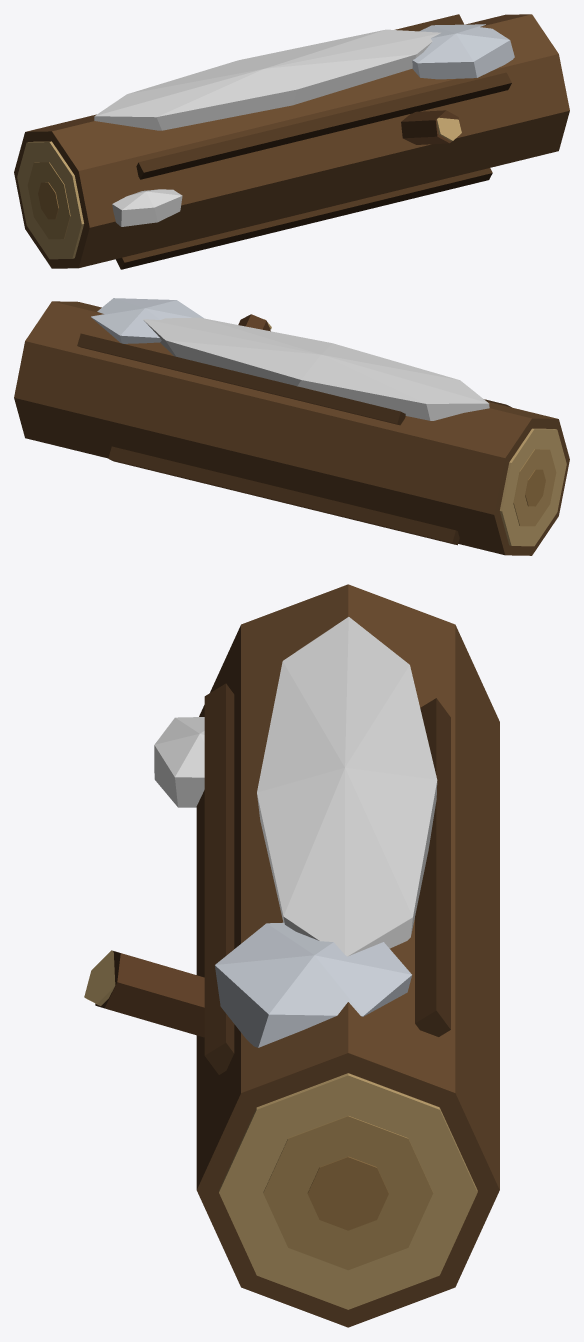
Rendered from prop_log_fallen.glb.
3 views of the same model, one above another, from view 1: azimuth 30°, elevation 25°; view 2: azimuth 150°, elevation 25°; view 3: azimuth 270°, elevation 25° (orthographic). The views are drawn at different scales.
Parts seen in each view (by area): view 1: prop_log_fallen; view 2: prop_log_fallen; view 3: prop_log_fallen.
Part boxes in pixels (x1,y1,x2,y2): prop_log_fallen: [14, 14, 569, 269]; prop_log_fallen: [14, 298, 569, 555]; prop_log_fallen: [84, 584, 499, 1327].
Bounding box in the file's own units: 3.05 × 0.8893 × 1.12.
